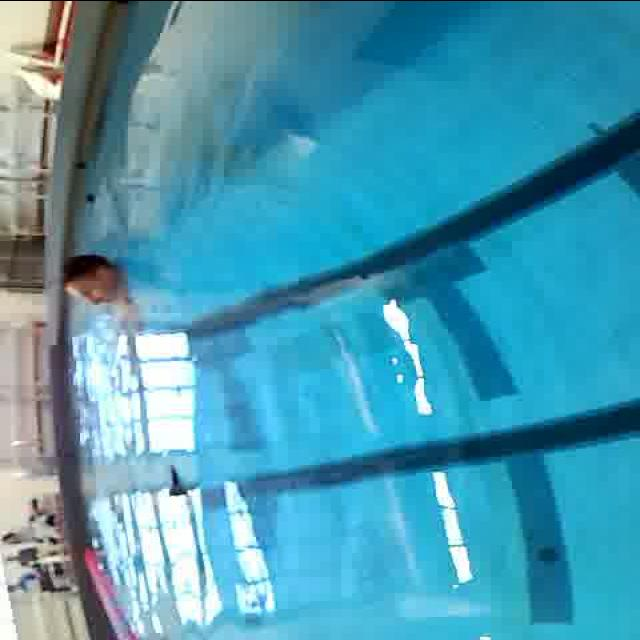CamMount: (158, 460, 192, 497)
